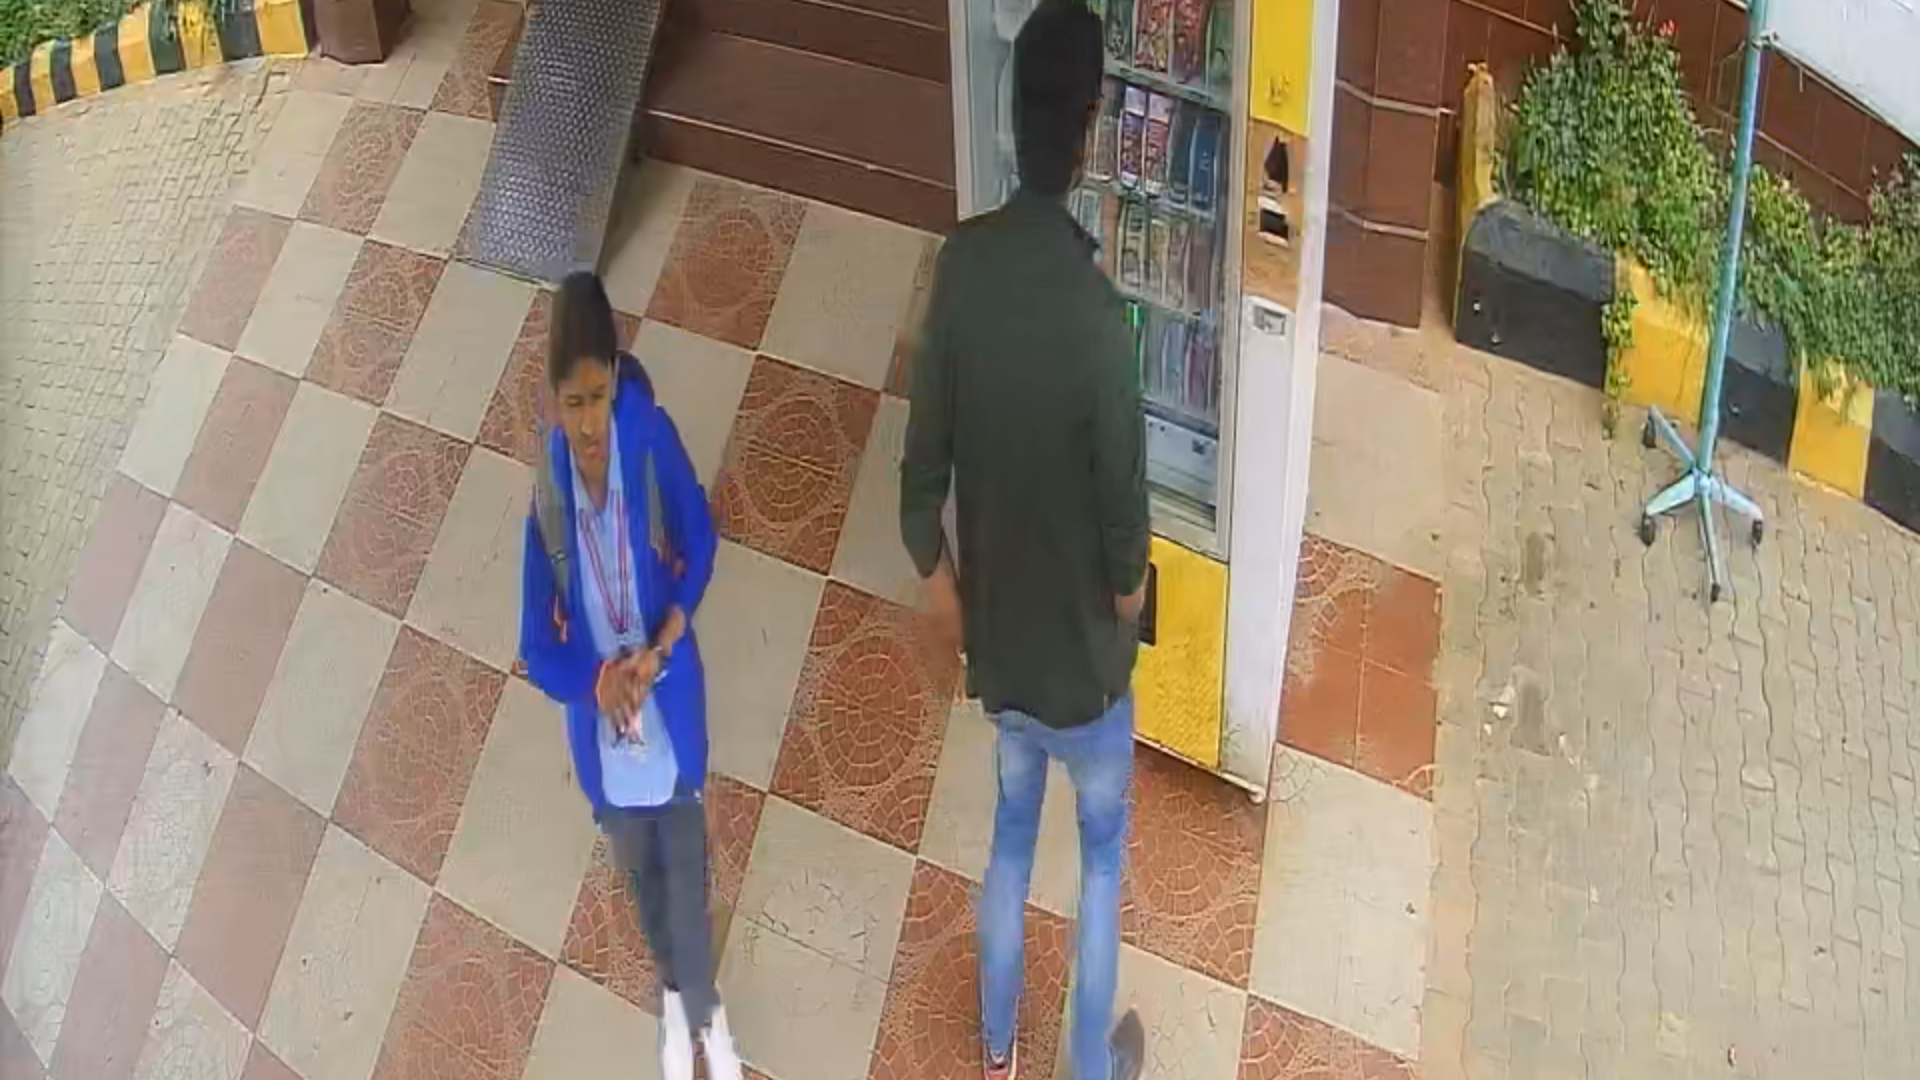not intruder: (516, 244, 773, 1080)
